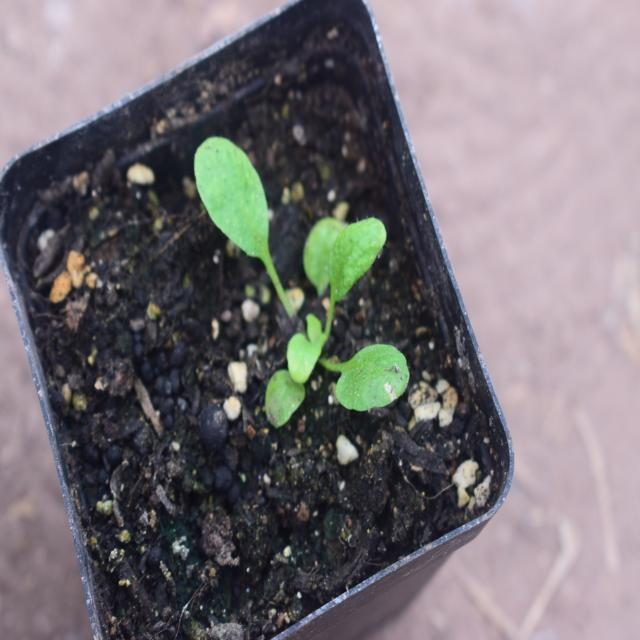Shepherd_Purse: (192, 116, 426, 442)
